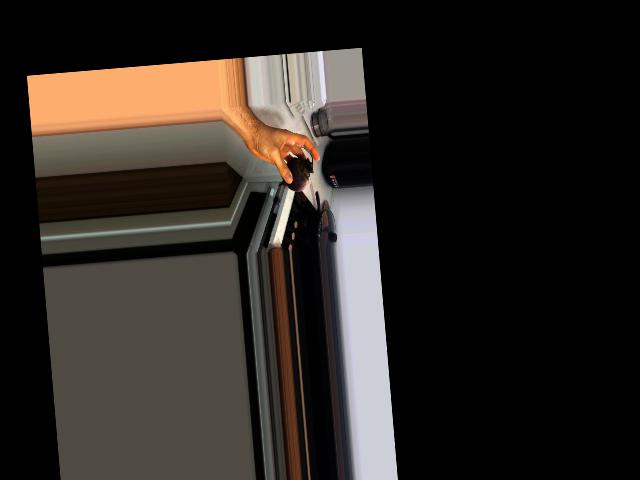beet: (274, 146, 315, 193)
